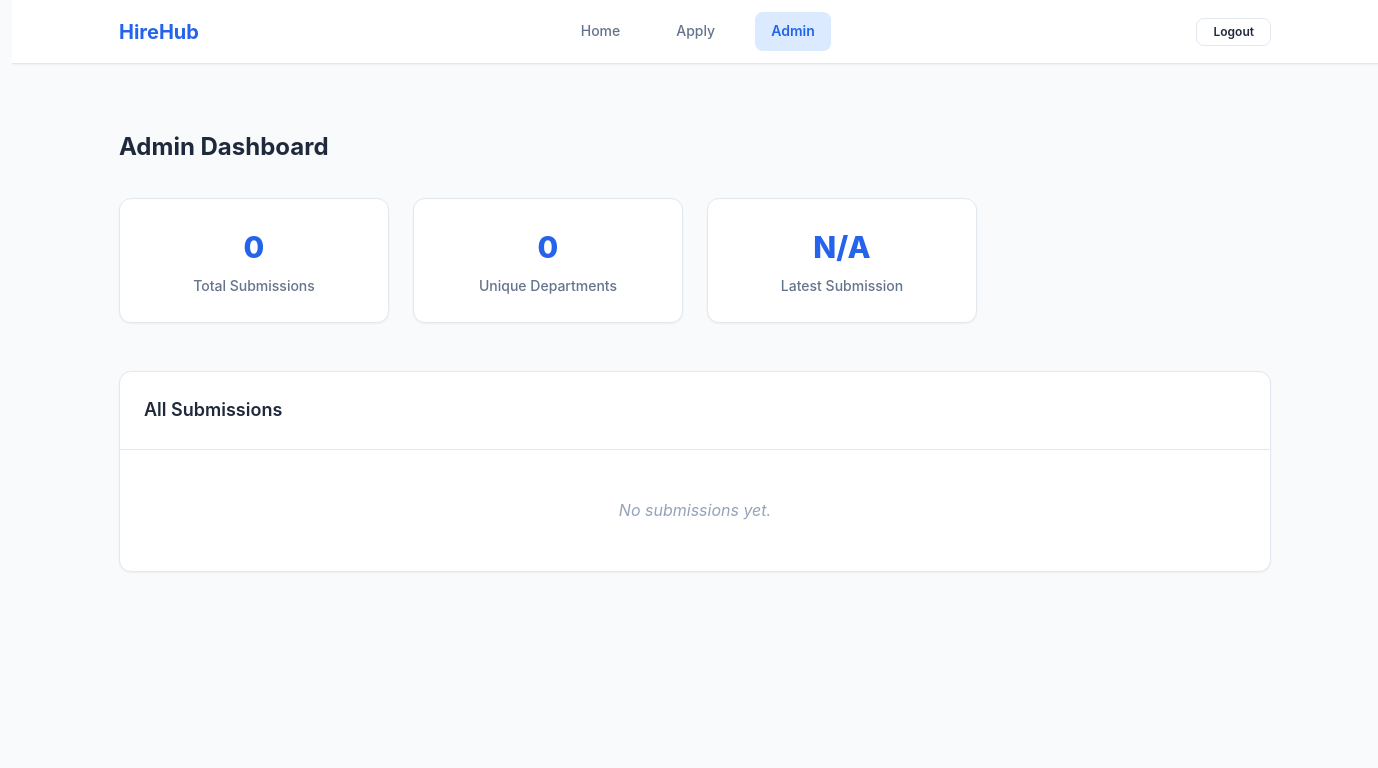
Test: App › Logout functionality › logs out and shows login form when Logout button is clicked
Click the link "Admin" at [793, 32], box [755,12,831,51]
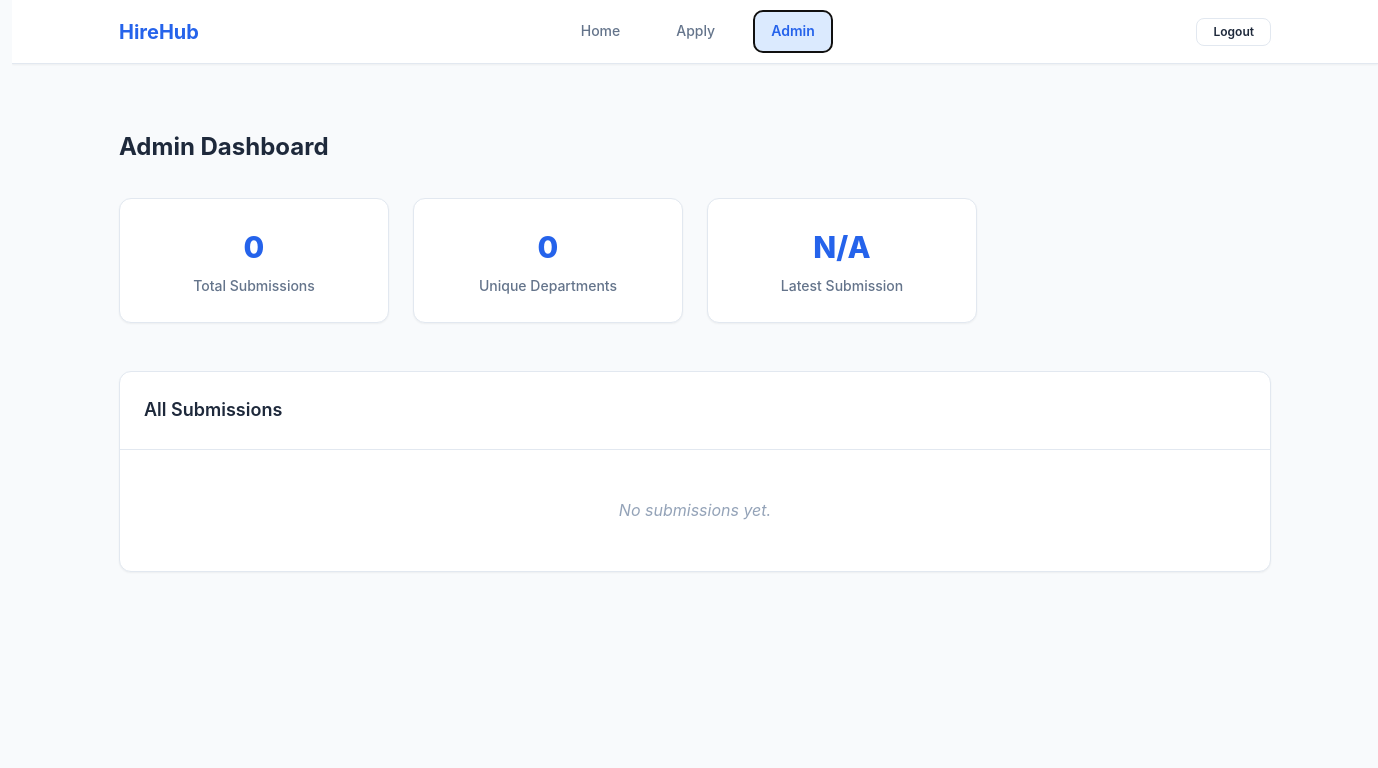
Expected: the heading "Admin Dashboard" is shown, [119,132,328,161]
Click the button "Logout" at [1234, 32], box [1196,18,1271,46]
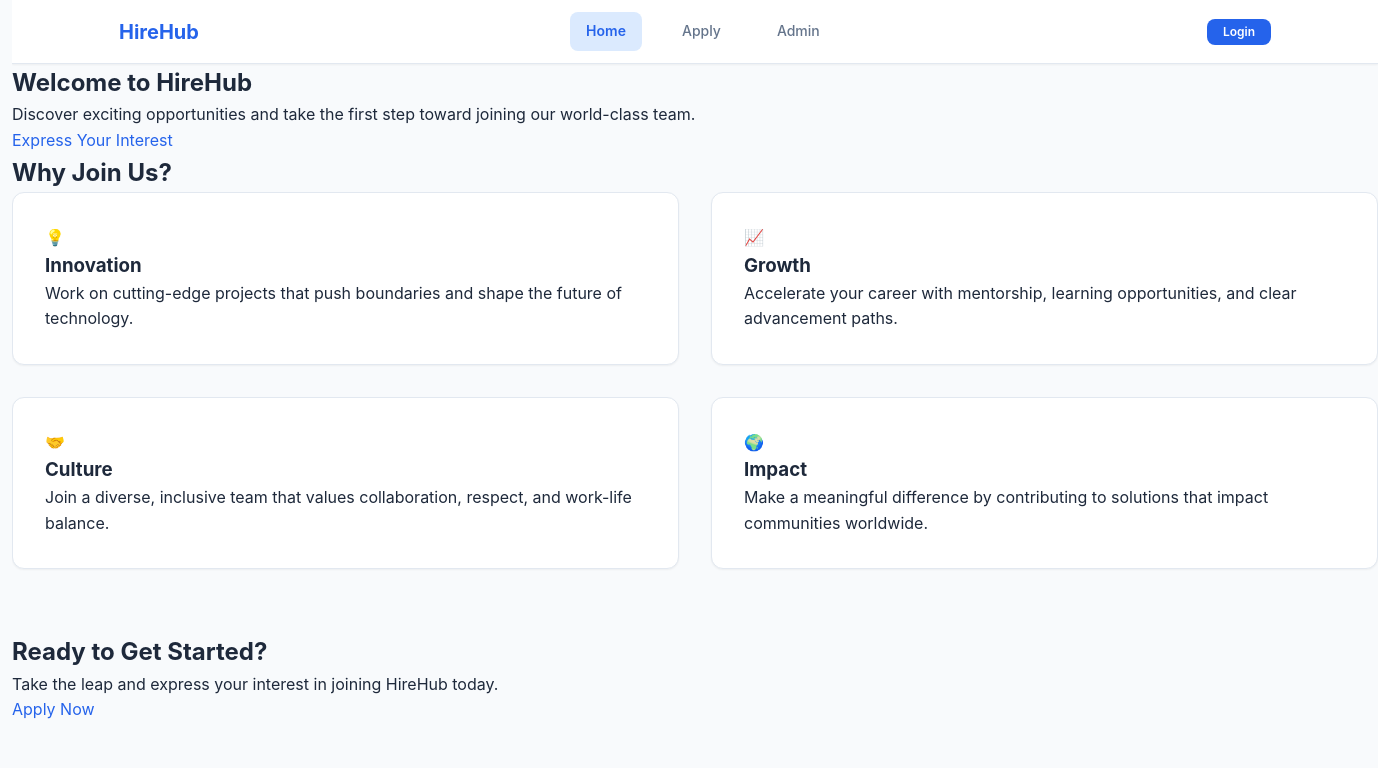
Expected: the heading "Welcome to HireHub" is shown, [12,68,252,97]
